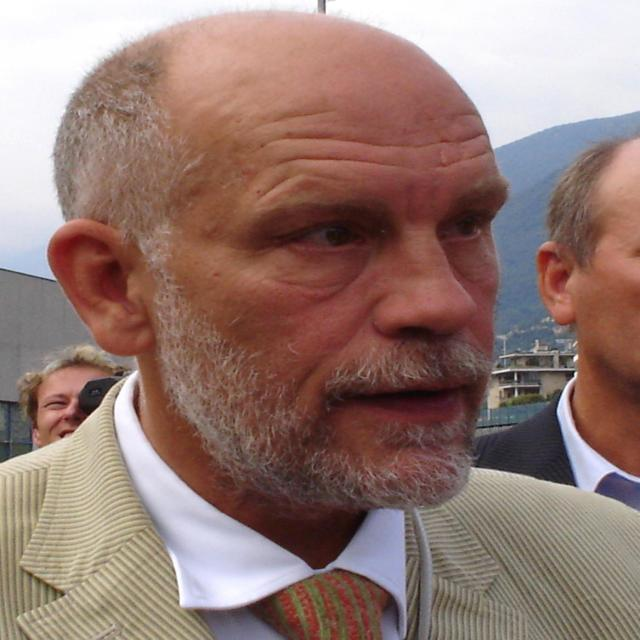no-earmuff: (25, 205, 186, 372), (526, 224, 592, 334)
